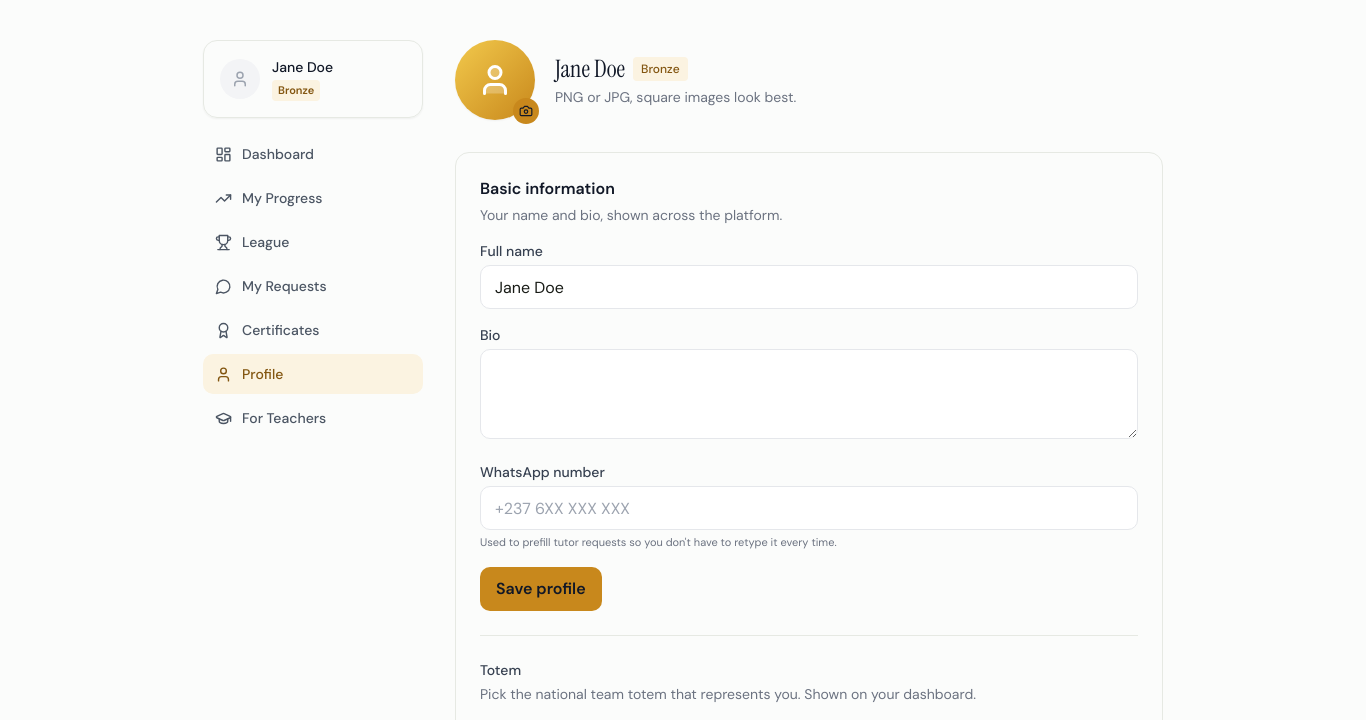
it: AccountSettings › WhatsApp number › rejects a malformed number without saving
In the field labelled "WhatsApp number": (809, 508) left=480, top=486, right=1138, bottom=530, type "0650123456"
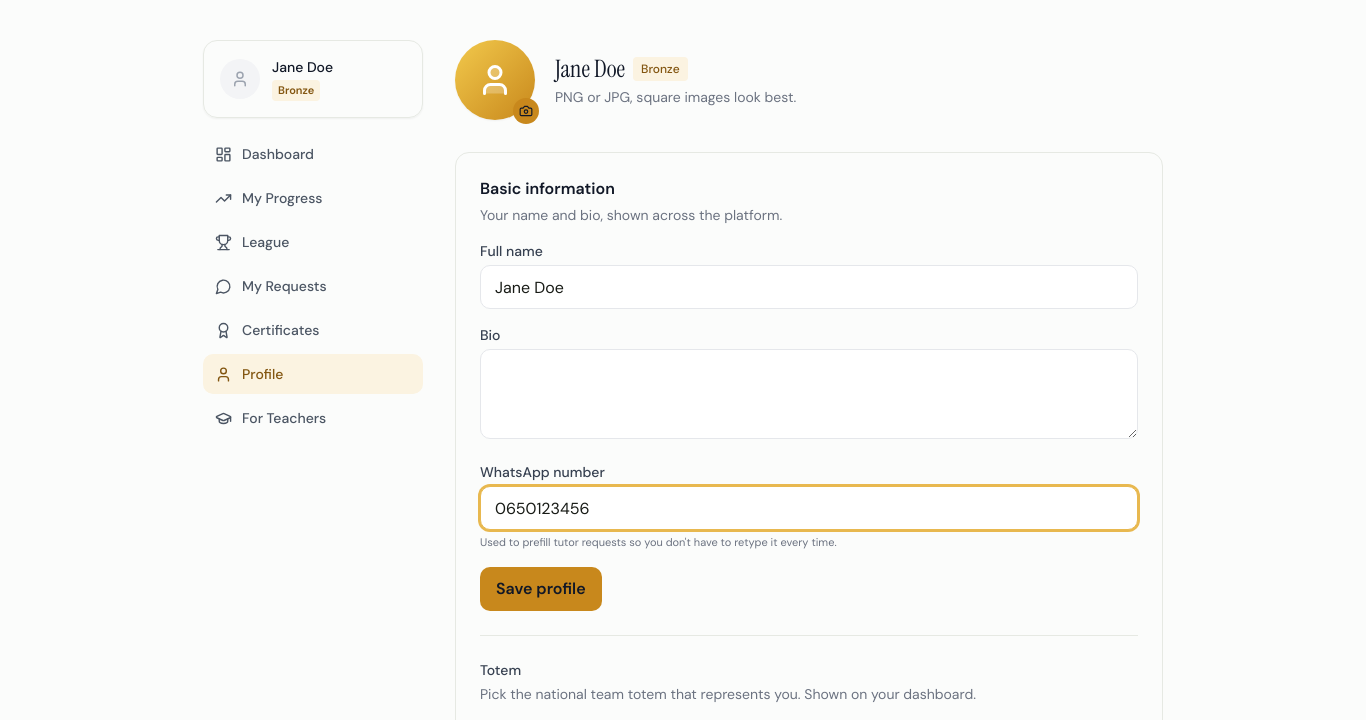
Click the button "Save profile": (541, 588) left=480, top=566, right=602, bottom=610
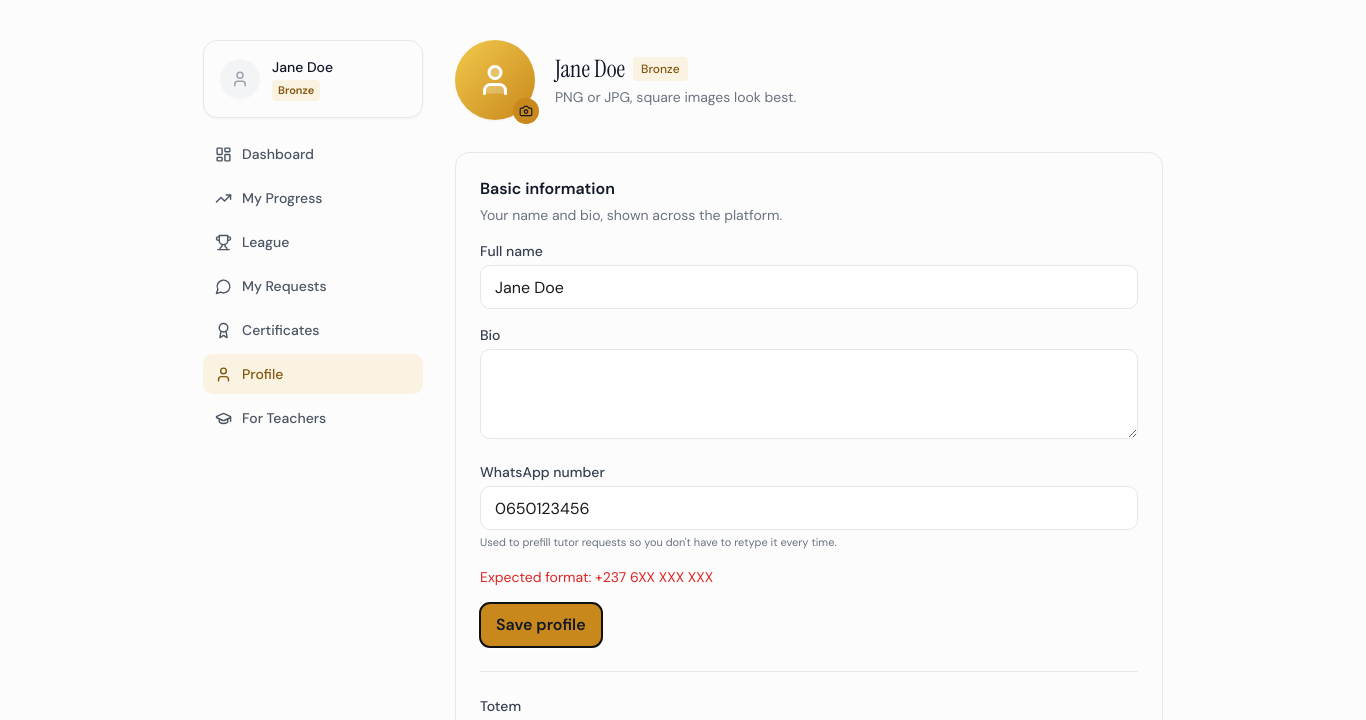
Expected: the text "Expected format: +237 6XX XXX XXX" is shown, left=480, top=568, right=713, bottom=586
